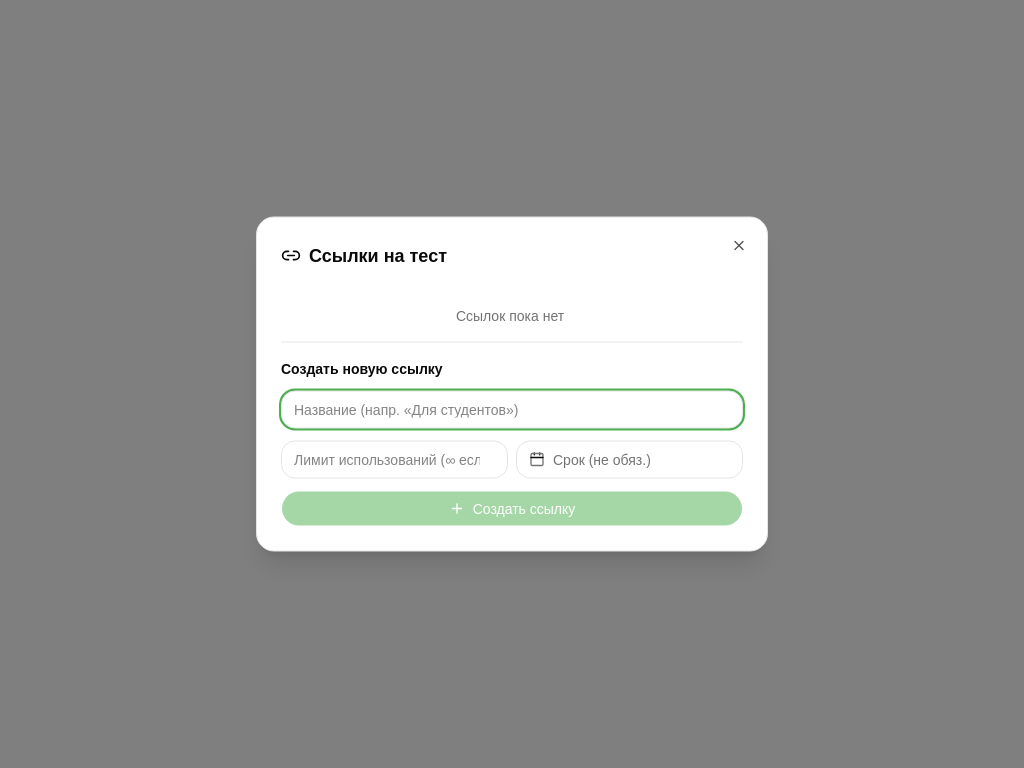
Test: CreateLinkModal › create link › enables submit button when label is typed
Type "Новая ссылка" into the field with placeholder "Название (напр. «Для студентов»)" at [512, 410], box [281,390,743,428]
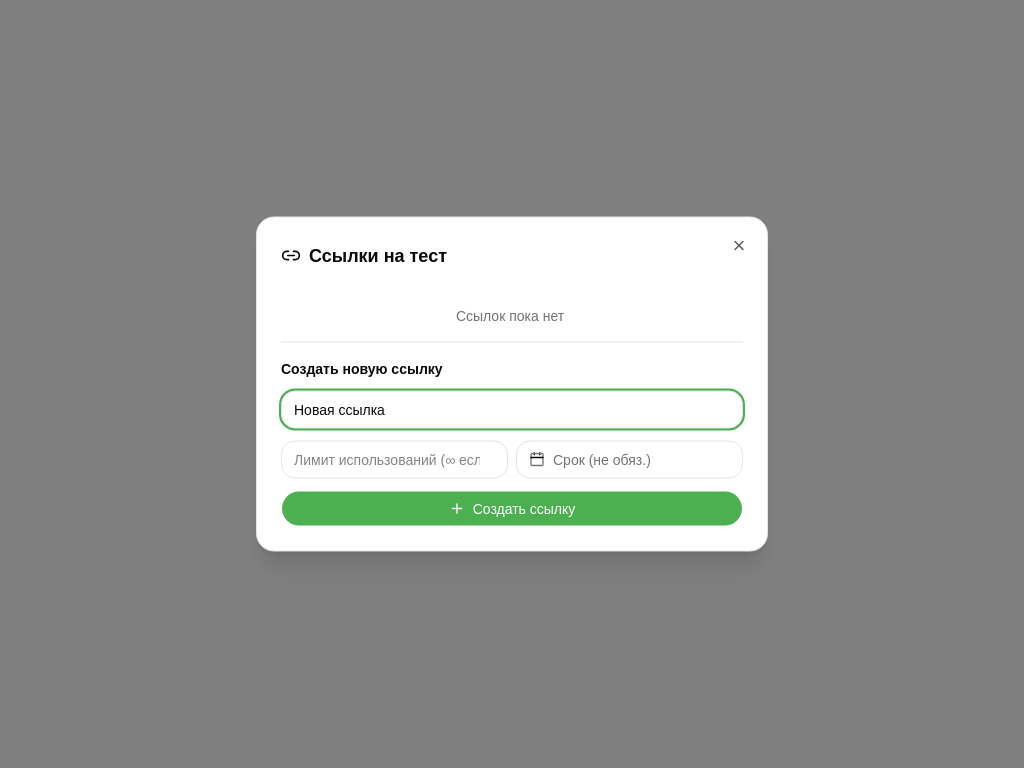
Now the button "Создать ссылку" is enabled, box [281,490,743,526]
